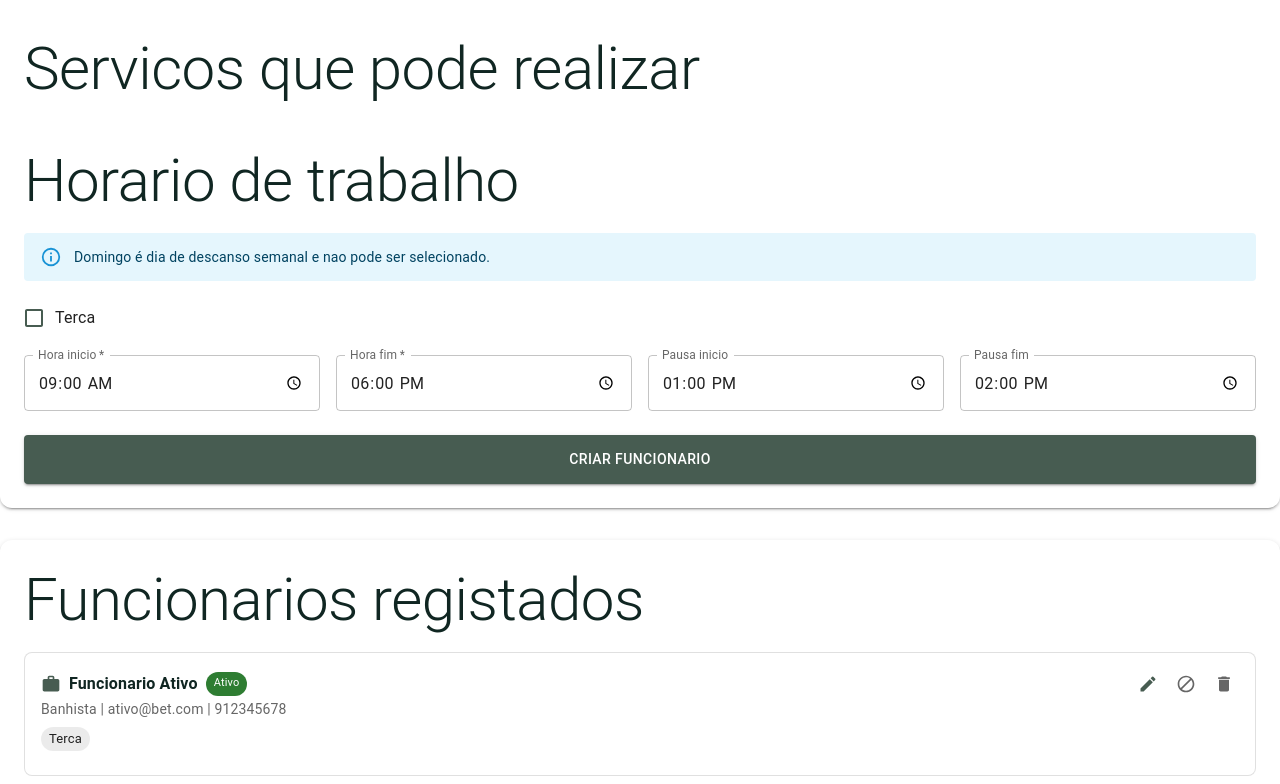
Test: Funcionarios page › desativa funcionario com PATCH depois de confirmacao
(page scrolled)
Expected: the heading "Funcionario Ativo" is shown, x1=69 y1=670 x2=198 y2=698
Note: Clicar no botão IconButton "Desativar" do card abre o ConfirmDialog
Step 1. Click the button named "Desativar" → (1186, 684), box x1=1171 y1=668 x2=1201 y2=698
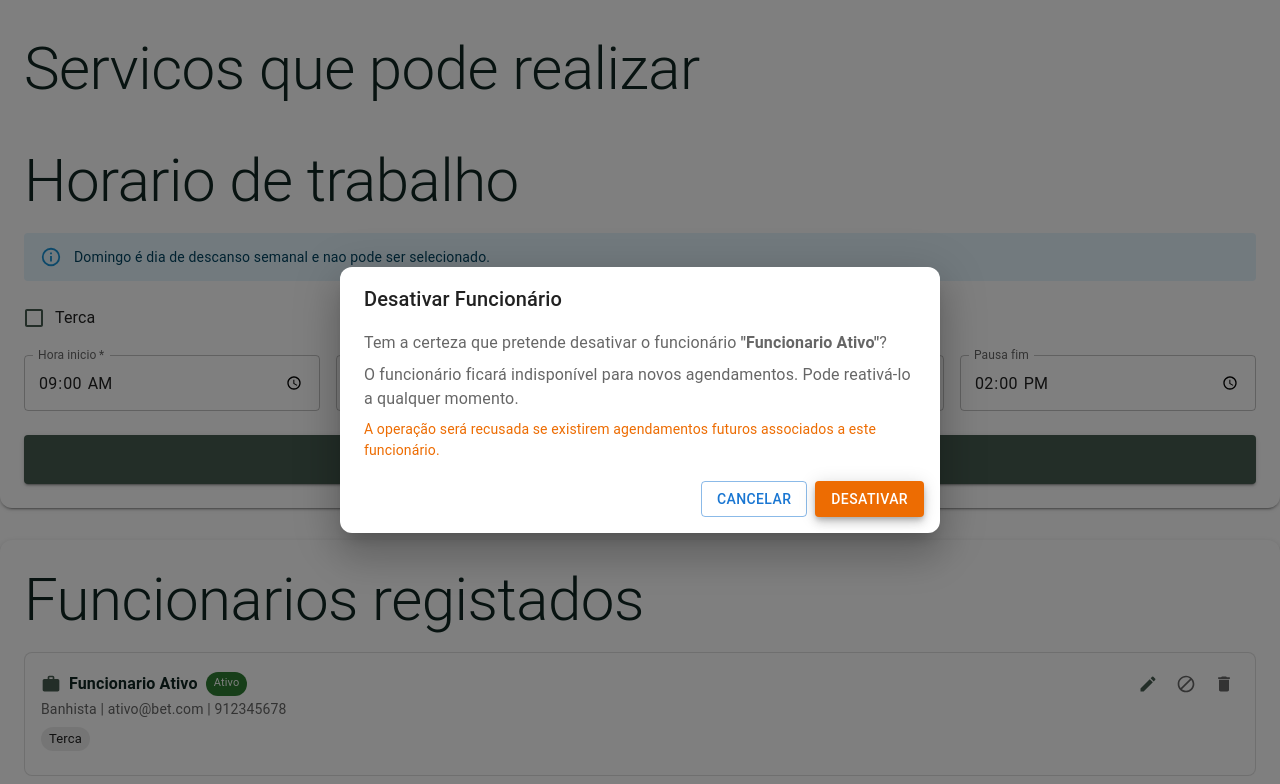
Now the heading "Desativar Funcionário" is shown, box x1=364 y1=287 x2=562 y2=311
Note: Confirmar no dialog
Step 2. Click the button with test id "confirm-dialog-confirm" → (870, 499), box x1=815 y1=481 x2=924 y2=517
(page scrolled)
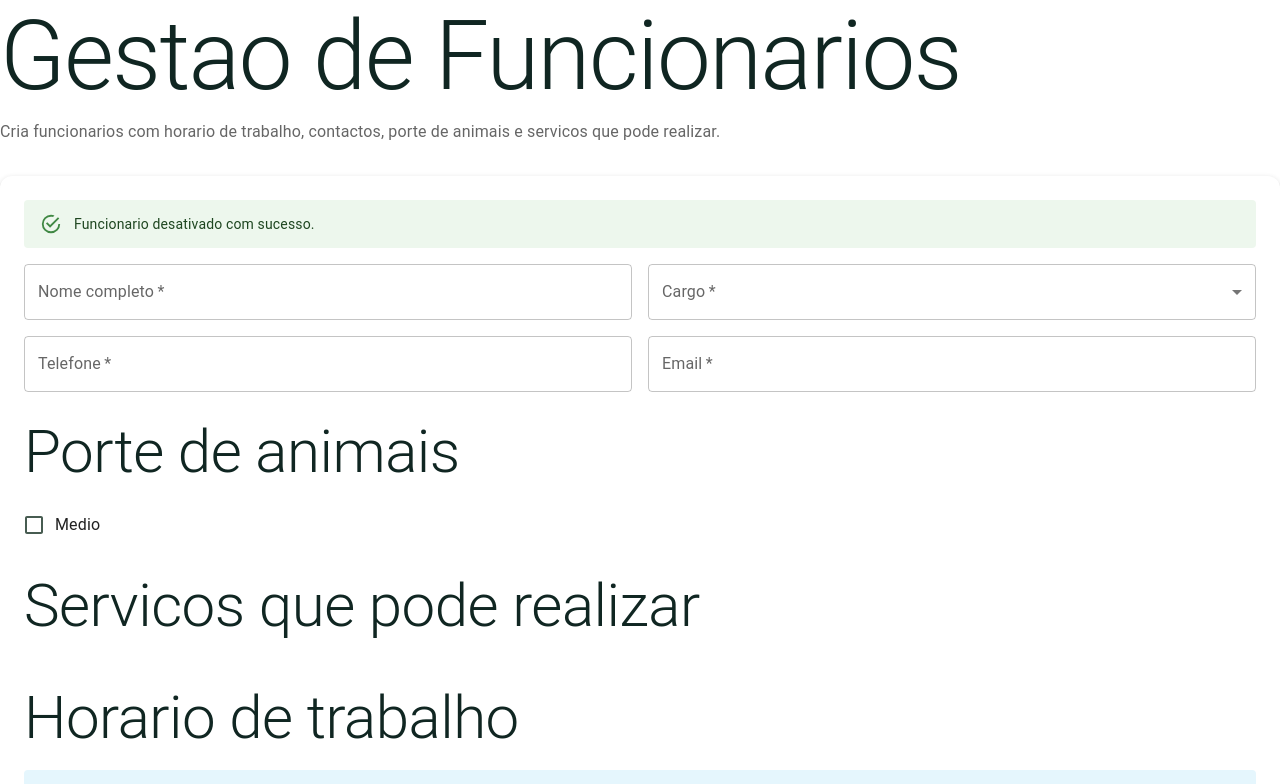
Now the text "Funcionario desativado com sucesso." is shown, box x1=74 y1=216 x2=315 y2=232
